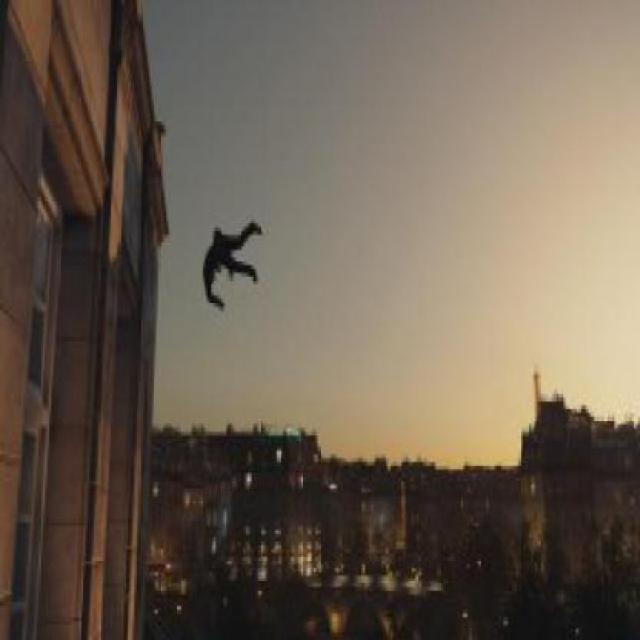fall: (204, 218, 268, 307)
